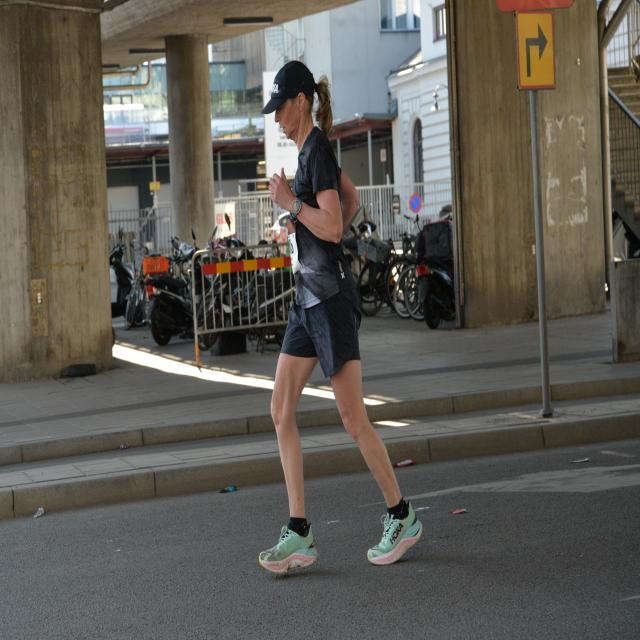runner-detect: (243, 47, 433, 570)
